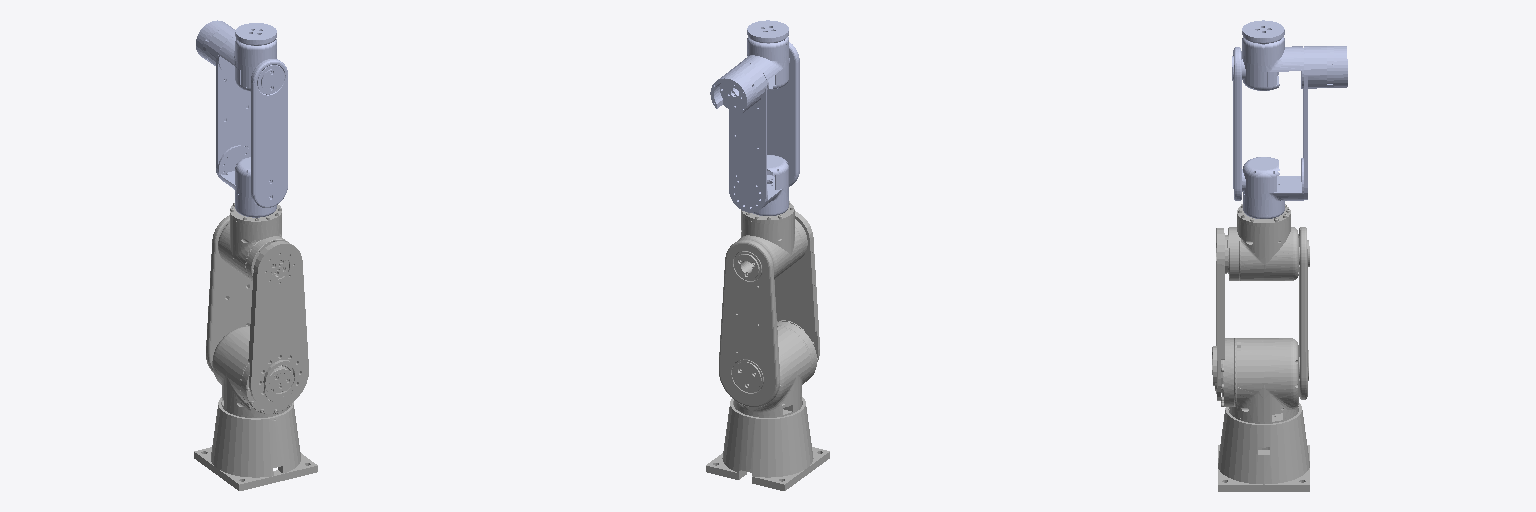
URDF robot description (gemini_arm_description):
<robot
  name="gemini_arm_description">
  <link
    name="base_link">
    <inertial>
      <origin
        xyz="-0.000343175586928217 0.00159787363524548 0.0403642614752203"
        rpy="0 0 0" />
      <mass
        value="0.538356341355379" />
      <inertia
        ixx="0.000222899831003167"
        ixy="3.67509961815862E-07"
        ixz="-6.55749815031895E-07"
        iyy="0.000221481349506304"
        iyz="4.21671858829881E-06"
        izz="3.91522409370845E-06" />
    </inertial>
    <visual>
      <origin
        xyz="0 0 0"
        rpy="0 0 0" />
      <geometry>
        <mesh
          filename="package://gemini_arm_description/meshes/base_link.STL" />
      </geometry>
      <material
        name="">
        <color
          rgba="0.752941176470588 0.752941176470588 0.752941176470588 1" />
      </material>
    </visual>
    <collision>
      <origin
        xyz="0 0 0"
        rpy="0 0 0" />
      <geometry>
        <mesh
          filename="package://gemini_arm_description/meshes/base_link.STL" />
      </geometry>
    </collision>
  </link>
  <link
    name="link1">
    <inertial>
      <origin
        xyz="0.00024367655569788 -0.00765546940645609 0.054816676528136"
        rpy="0 0 0" />
      <mass
        value="0.429111339765699" />
      <inertia
        ixx="0.000409405108031969"
        ixy="7.2667427177108E-06"
        ixz="-5.905713312897E-07"
        iyy="8.54561562597217E-05"
        iyz="2.90764208063669E-05"
        izz="0.000326683712310298" />
    </inertial>
    <visual>
      <origin
        xyz="0 0 0"
        rpy="0 0 0" />
      <geometry>
        <mesh
          filename="package://gemini_arm_description/meshes/link1.STL" />
      </geometry>
      <material
        name="">
        <color
          rgba="0.752941176470588 0.752941176470588 0.752941176470588 1" />
      </material>
    </visual>
    <collision>
      <origin
        xyz="0 0 0"
        rpy="0 0 0" />
      <geometry>
        <mesh
          filename="package://gemini_arm_description/meshes/link1.STL" />
      </geometry>
    </collision>
  </link>
  <joint
    name="joint1"
    type="continuous">
    <origin
      xyz="0 0 0.0919999999999988"
      rpy="0 -5.40931672317945E-57 0" />
    <parent
      link="base_link" />
    <child
      link="link1" />
    <axis
      xyz="0 0 1" />
  </joint>
  <link
    name="link2">
    <inertial>
      <origin
        xyz="-8.17473248966882E-05 0.0758952429917575 -0.00330618034524405"
        rpy="0 0 0" />
      <mass
        value="0.302188994279634" />
      <inertia
        ixx="0.0010159649861604"
        ixy="-2.93594711382165E-06"
        ixz="-2.13328310648836E-05"
        iyy="0.00086331027836668"
        iyz="-0.000118741141128118"
        izz="0.000153709642304199" />
    </inertial>
    <visual>
      <origin
        xyz="0 0 0"
        rpy="0 0 0" />
      <geometry>
        <mesh
          filename="package://gemini_arm_description/meshes/link2.STL" />
      </geometry>
      <material
        name="">
        <color
          rgba="0.752941176470588 0.752941176470588 0.752941176470588 1" />
      </material>
    </visual>
    <collision>
      <origin
        xyz="0 0 0"
        rpy="0 0 0" />
      <geometry>
        <mesh
          filename="package://gemini_arm_description/meshes/link2.STL" />
      </geometry>
    </collision>
  </link>
  <joint
    name="joint2"
    type="continuous">
    <origin
      xyz="0 0 0.060000000000028"
      rpy="1.57079632679489 4.93038065763132E-29 0" />
    <parent
      link="link1" />
    <child
      link="link2" />
    <axis
      xyz="0.0247180551164637 0 0.999694462198956" />
  </joint>
  <link
    name="link3">
    <inertial>
      <origin
        xyz="1.46872506379533E-05 0.00957042421327847 0.000512942113211096"
        rpy="0 0 0" />
      <mass
        value="0.304609228794722" />
      <inertia
        ixx="0.000242576727670286"
        ixy="2.17319668714494E-07"
        ixz="-4.7905709289069E-06"
        iyy="0.000193449162659685"
        iyz="8.79117964216302E-06"
        izz="4.93660161141823E-05" />
    </inertial>
    <visual>
      <origin
        xyz="0 0 0"
        rpy="0 0 0" />
      <geometry>
        <mesh
          filename="package://gemini_arm_description/meshes/link3.STL" />
      </geometry>
      <material
        name="">
        <color
          rgba="0.752941176470588 0.752941176470588 0.752941176470588 1" />
      </material>
    </visual>
    <collision>
      <origin
        xyz="0 0 0"
        rpy="0 0 0" />
      <geometry>
        <mesh
          filename="package://gemini_arm_description/meshes/link3.STL" />
      </geometry>
    </collision>
  </link>
  <joint
    name="joint3"
    type="continuous">
    <origin
      xyz="0 0.159999999999972 0"
      rpy="0 0 0" />
    <parent
      link="link2" />
    <child
      link="link3" />
    <axis
      xyz="0.0247180551164622 0 0.999694462198956" />
  </joint>
  <link
    name="link4">
    <inertial>
      <origin
        xyz="-0.000394301628560645 0.0159924901247282 0.105573895390213"
        rpy="0 0 0" />
      <mass
        value="0.305571705527713" />
      <inertia
        ixx="0.00159912421860763"
        ixy="1.38485660329673E-05"
        ixz="9.44824858813277E-06"
        iyy="0.00103932931783288"
        iyz="-0.000380817387210956"
        izz="0.00056047969841544" />
    </inertial>
    <visual>
      <origin
        xyz="0 0 0"
        rpy="0 0 0" />
      <geometry>
        <mesh
          filename="package://gemini_arm_description/meshes/link4.STL" />
      </geometry>
      <material
        name="">
        <color
          rgba="0.792156862745098 0.819607843137255 0.933333333333333 1" />
      </material>
    </visual>
    <collision>
      <origin
        xyz="0 0 0"
        rpy="0 0 0" />
      <geometry>
        <mesh
          filename="package://gemini_arm_description/meshes/link4.STL" />
      </geometry>
    </collision>
  </link>
  <joint
    name="joint4"
    type="continuous">
    <origin
      xyz="0 0.0600000000000281 0"
      rpy="-1.5707963267949 -9.90895775309162E-32 2.1075722764802E-16" />
    <parent
      link="link3" />
    <child
      link="link4" />
    <axis
      xyz="0 0 1" />
  </joint>
  <link
    name="link5">
    <inertial>
      <origin
        xyz="0.00114728227592453 0.0138844656415349 0.0462931681329246"
        rpy="0 0 0" />
      <mass
        value="0.109581130234744" />
      <inertia
        ixx="5.10074161279349E-05"
        ixy="-5.51294866389659E-09"
        ixz="-6.60260239698722E-07"
        iyy="2.66488845419761E-05"
        iyz="-2.54906774755437E-08"
        izz="2.43912715847687E-05" />
    </inertial>
    <visual>
      <origin
        xyz="0 0 0"
        rpy="0 0 0" />
      <geometry>
        <mesh
          filename="package://gemini_arm_description/meshes/link5.STL" />
      </geometry>
      <material
        name="">
        <color
          rgba="0.792156862745098 0.819607843137255 0.933333333333333 1" />
      </material>
    </visual>
    <collision>
      <origin
        xyz="0 0 0"
        rpy="0 0 0" />
      <geometry>
        <mesh
          filename="package://gemini_arm_description/meshes/link5.STL" />
      </geometry>
    </collision>
  </link>
  <joint
    name="joint5"
    type="continuous">
    <origin
      xyz="-0.00127297983849752 0.0514842648033036 0.206200000000001"
      rpy="1.5707963267949 2.1075722764802E-16 0" />
    <parent
      link="link4" />
    <child
      link="link5" />
    <axis
      xyz="0.0247180551163906 0 0.999694462198958" />
  </joint>
  <link
    name="link6">
    <inertial>
      <origin
        xyz="8.28330459778925E-17 -2.77555756156289E-17 0.00452342428327979"
        rpy="0 0 0" />
      <mass
        value="0.0205479341797186" />
      <inertia
        ixx="0"
        ixy="0"
        ixz="0"
        iyy="0"
        iyz="0"
        izz="0" />
    </inertial>
    <visual>
      <origin
        xyz="0 0 0"
        rpy="0 0 0" />
      <geometry>
        <mesh
          filename="package://gemini_arm_description/meshes/link6.STL" />
      </geometry>
      <material
        name="">
        <color
          rgba="0.792156862745098 0.819607843137255 0.933333333333333 1" />
      </material>
    </visual>
    <collision>
      <origin
        xyz="0 0 0"
        rpy="0 0 0" />
      <geometry>
        <mesh
          filename="package://gemini_arm_description/meshes/link6.STL" />
      </geometry>
    </collision>
  </link>
  <joint
    name="joint6"
    type="continuous">
    <origin
      xyz="0.00128533886605591 0.0461999999999435 0.0519841120344026"
      rpy="-1.5707963267949 -6.70540576712656E-29 -5.88614294757338E-14" />
    <parent
      link="link5" />
    <child
      link="link6" />
    <axis
      xyz="0 0 1" />
  </joint>
</robot>

--- Render facts (derived) ---
3 views of the same robot in one strip: view 1: azimuth 30°, elevation 25°; view 2: azimuth 150°, elevation 25°; view 3: azimuth 270°, elevation 25° (orthographic).
Robot: gemini_arm_description — 7 links, 6 joints (6 continuous); root link base_link; default pose: every joint at zero.
Links seen in each view (by area): view 1: link2, link4, base_link, link1, link3, link5, link6; view 2: link2, link4, base_link, link1, link3, link5, link6; view 3: link4, base_link, link1, link3, link2, link5, link6.
Link boxes in pixels (x1,y1,x2,y2): link2: [206, 215, 308, 409]; link4: [196, 20, 287, 217]; base_link: [194, 397, 317, 490]; link1: [212, 326, 294, 417]; link3: [218, 203, 288, 280]; link5: [218, 37, 284, 94]; link6: [235, 23, 276, 45]; link2: [719, 211, 819, 406]; link4: [710, 42, 799, 215]; base_link: [706, 397, 829, 490]; link1: [734, 321, 817, 417]; link3: [738, 201, 807, 278]; link5: [739, 37, 790, 91]; link6: [747, 20, 788, 43]; link4: [1233, 46, 1347, 218]; base_link: [1218, 403, 1309, 491]; link1: [1215, 338, 1298, 423]; link3: [1227, 204, 1298, 280]; link2: [1212, 227, 1309, 400]; link5: [1232, 37, 1303, 90]; link6: [1242, 20, 1284, 43].
Size in the robot's own frame: 0.12 by 0.1756 by 0.6334 metres.
Meshes: 7 distinct files referenced, 7 mesh visuals loaded (7 binary STL).
